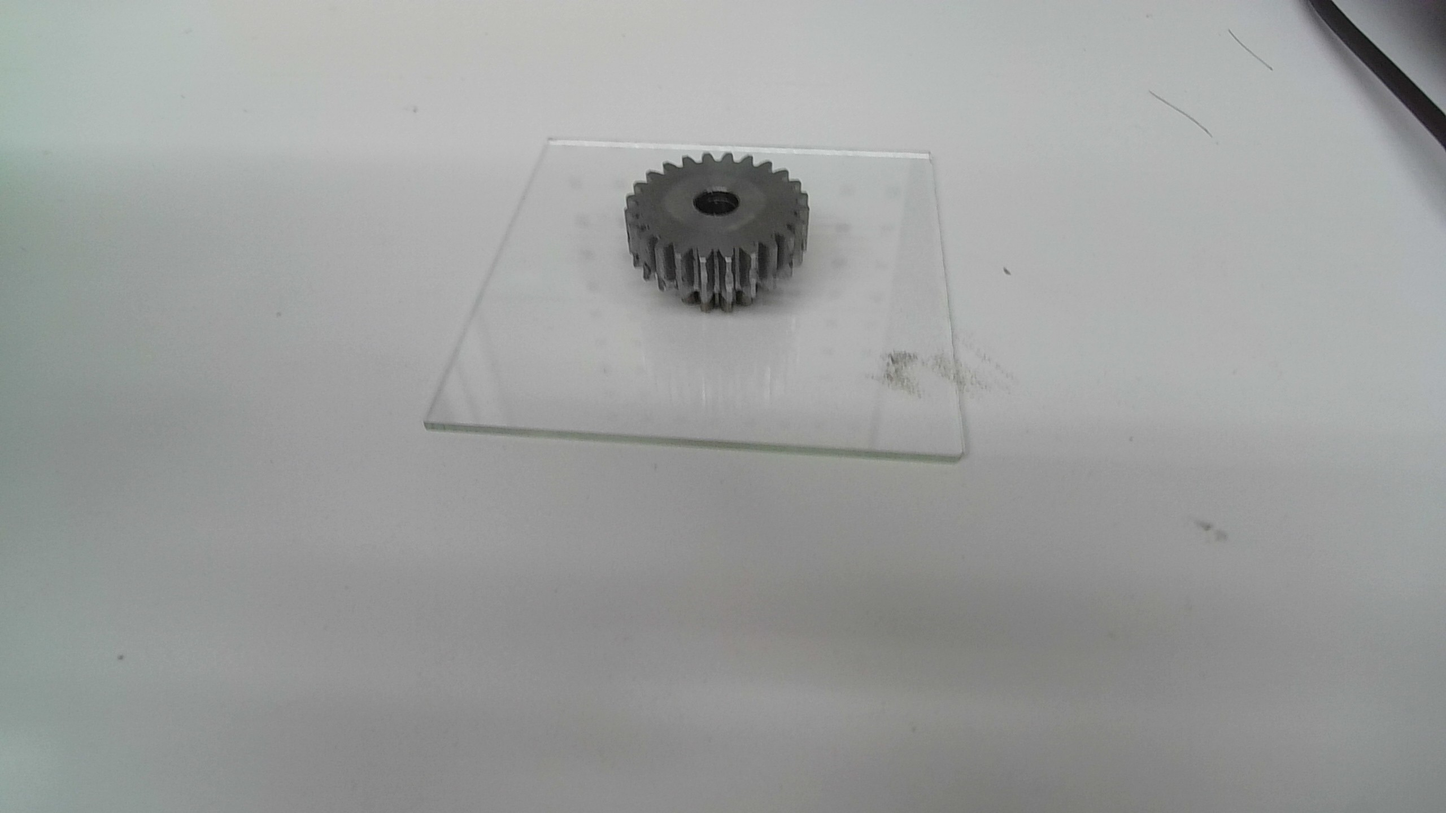gear: (620, 146, 814, 316)
